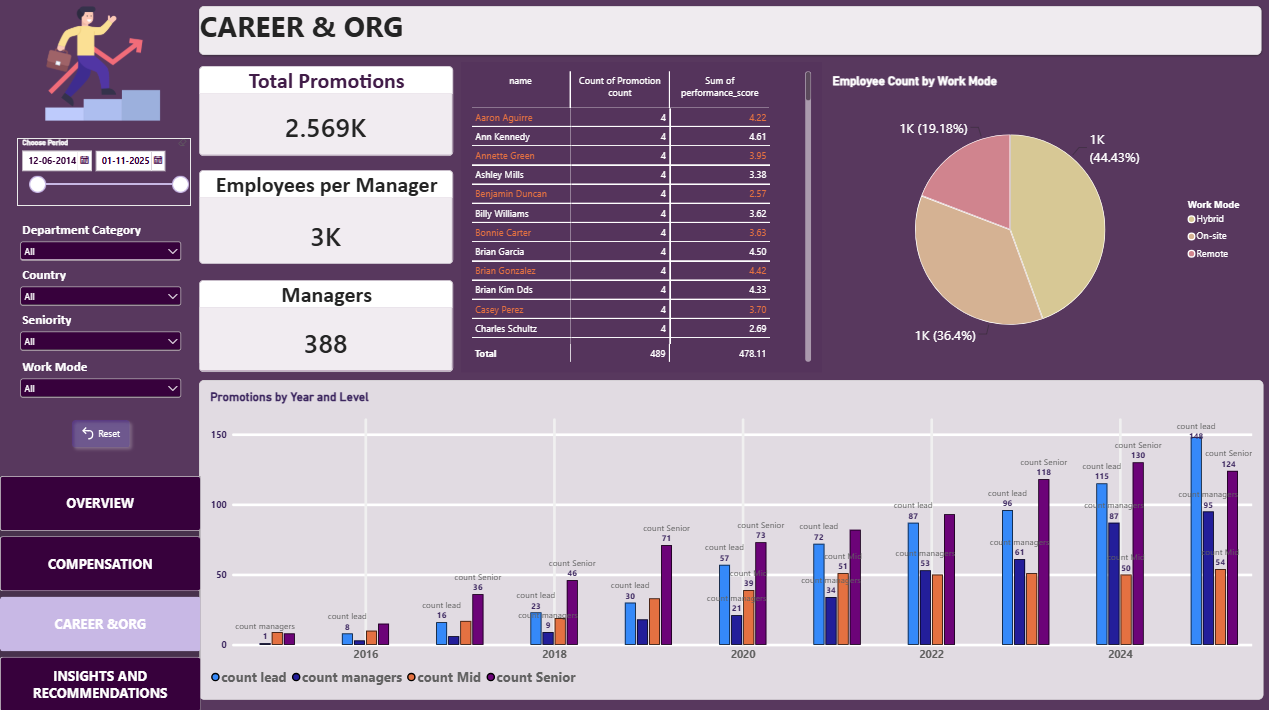

Layout of this report page (visuals, bound fields, positions):
{"tool":"powerbi","page":{"name":"CAREER &ORG","canvas":[1920,1080],"ordinal":2},"visuals":[{"type":"textbox","box":[303.5,10.2,1604.9,74.4],"z":0},{"type":"cardVisual","title":"Total Promotions","fields":{"Data":["CountNonNull(promotions.employee_id)"]},"box":[303.7,101.2,383.7,135.5],"z":1000},{"type":"cardVisual","title":"Managers","fields":{"Data":["promotions.count managers"]},"box":[303.7,424.5,383.7,138.8],"z":2000},{"type":"cardVisual","title":"Employees per Manager","fields":{"Data":["Measure Table.employees per manager"]},"box":[303.7,258,383.7,142],"z":3000},{"type":"slicer","fields":{"Values":["employees.hire_date"]},"box":[28.3,210.2,263.9,102.9],"z":4000},{"type":"slicer","fields":{"Values":["employees.department_category"]},"box":[28.3,335.4,253.4,68.6],"z":5000},{"type":"slicer","fields":{"Values":["locations.country"]},"box":[28.3,404,253.4,68.6],"z":6000},{"type":"slicer","fields":{"Values":["employees.seniority"]},"box":[28.3,471.1,253.4,68.6],"z":7000},{"type":"slicer","fields":{"Values":["employees.work_mode"]},"box":[28.3,542.6,253.4,68.6],"z":8000},{"type":"clusteredColumnChart","title":"Promotions by Year and Level","fields":{"Y":["promotions.count lead","promotions.count managers","promotions.count Mid","promotions.count Senior"],"Category":["promotions.promotion_date.Variation.Date Hierarchy.Year"]},"box":[303.5,576.3,1607.8,482.9],"z":9000},{"type":"image","box":[34.3,0,247.5,195.3],"z":10000},{"type":"pieChart","title":"Employee Count by Work Mode","fields":{"Y":["Measure Table.Employee count"],"Category":["employees.work_mode"]},"box":[1244.1,98,664.5,465.3],"z":11000},{"type":"pivotTable","fields":{"Rows":["employees.name"],"Values":["CountNonNull(promotions.Promotion count)","Sum(employees.performance_score)"]},"box":[698.8,94.7,545.3,468.6],"z":12000},{"type":"actionButton","box":[102.3,627.4,105.5,59.8],"z":13000},{"type":"pageNavigator","box":[3.6,720.5,303.1,359.3],"z":14000}]}

Visuals, with their boxes in screenshot pixels (x1, y1, x2, y2), scaled from the page's 1920x1080 canvas onto the 1269x710 screenshot:
textbox: box=[201, 7, 1261, 56]
"Total Promotions" cardVisual: box=[201, 67, 454, 156]
"Managers" cardVisual: box=[201, 279, 454, 370]
"Employees per Manager" cardVisual: box=[201, 170, 454, 263]
slicer - employees.hire_date: box=[19, 138, 193, 206]
slicer - employees.department_category: box=[19, 220, 186, 266]
slicer - locations.country: box=[19, 266, 186, 311]
slicer - employees.seniority: box=[19, 310, 186, 355]
slicer - employees.work_mode: box=[19, 357, 186, 402]
"Promotions by Year and Level" clusteredColumnChart: box=[201, 379, 1263, 696]
image: box=[23, 0, 186, 128]
"Employee Count by Work Mode" pieChart: box=[822, 64, 1261, 370]
pivotTable - employees.name x CountNonNull(promotions.Promotion count): box=[462, 62, 822, 370]
actionButton: box=[68, 412, 137, 452]
pageNavigator: box=[2, 474, 203, 709]
